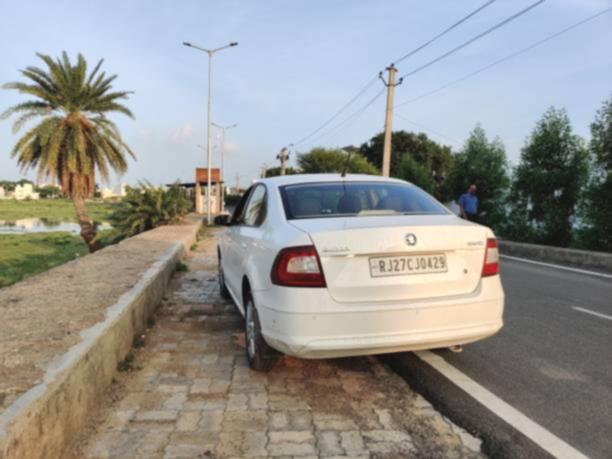skoda: (399, 230, 424, 250)
